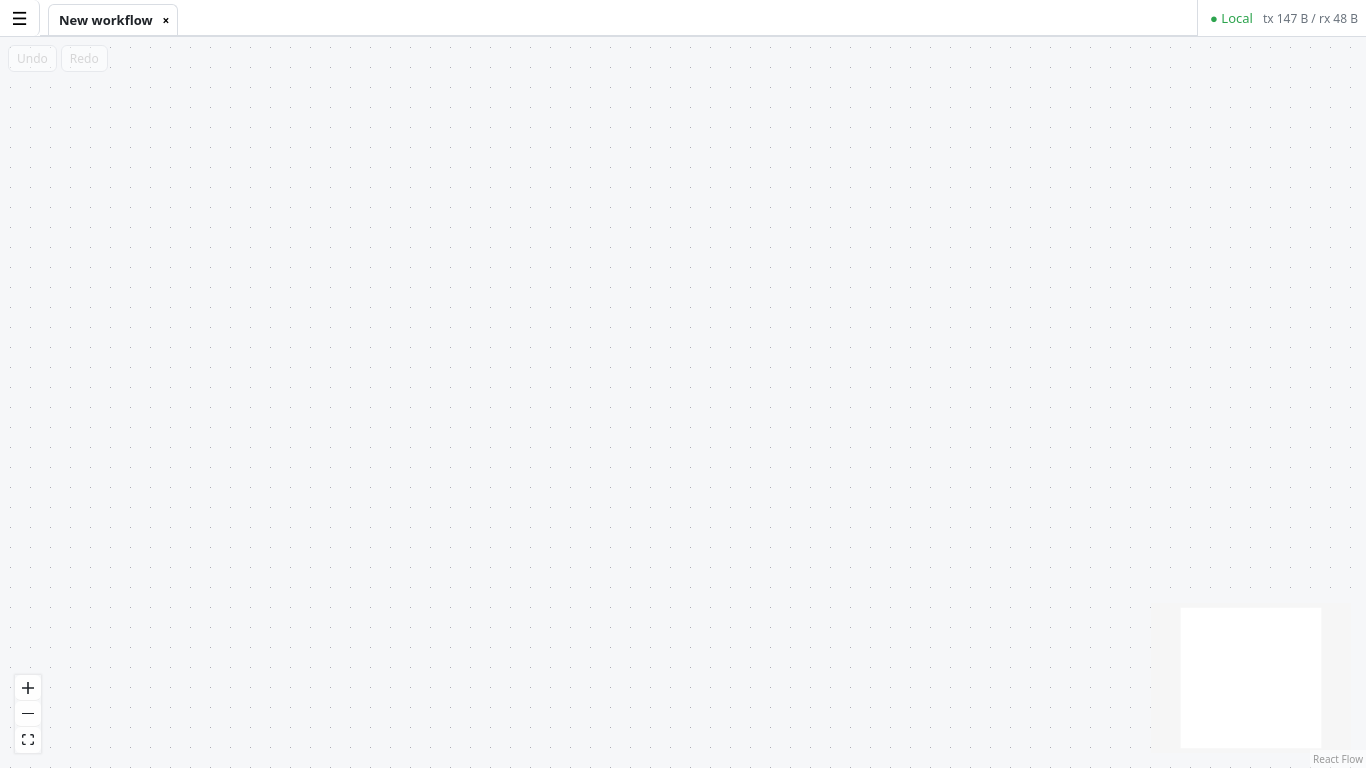
Test case: список workflow и вкладки › закрытие вкладки не удаляет workflow; открытие возвращает вкладку
This screenshot has width=1366, height=768.
Step 1. Click the button named "Menu" → click(20, 18), box [0,0,40,36]
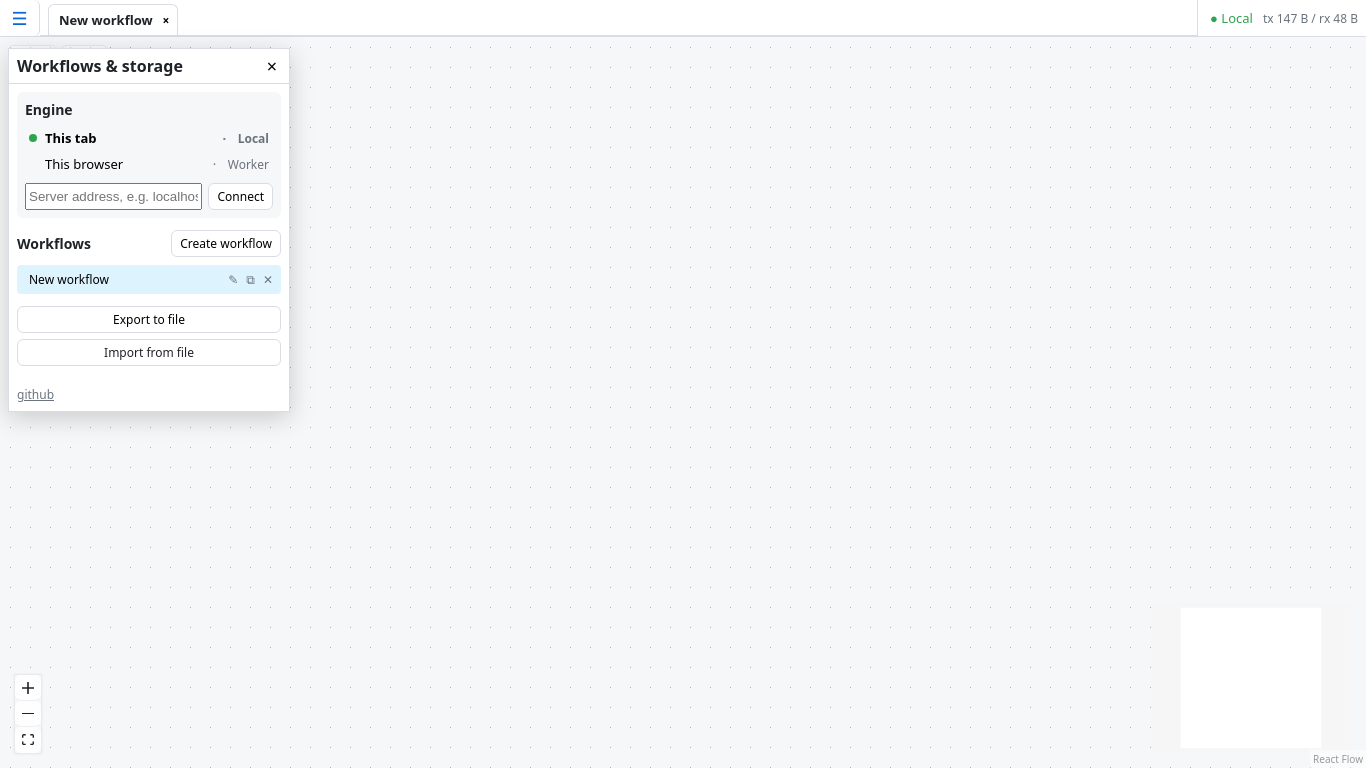
Step 2. Click the button named "Close tab “New workflow”" → click(170, 20), box [163,12,178,28]
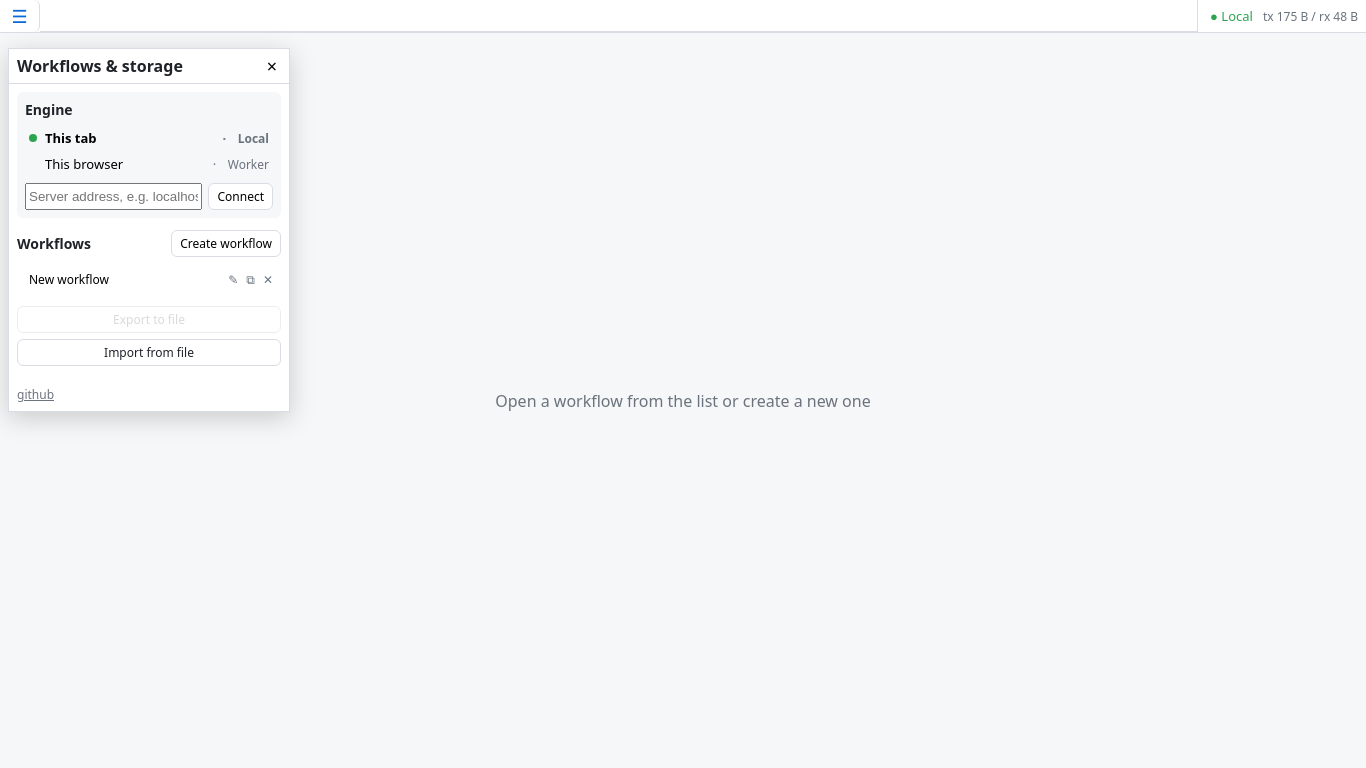
Now no tabs are shown
Now the text "Open a workflow from the list or create a new one" is shown, box [495,390,871,412]
Step 3. Click the button with aria-label "Open “New workflow”" → click(121, 280), box [21,267,220,292]
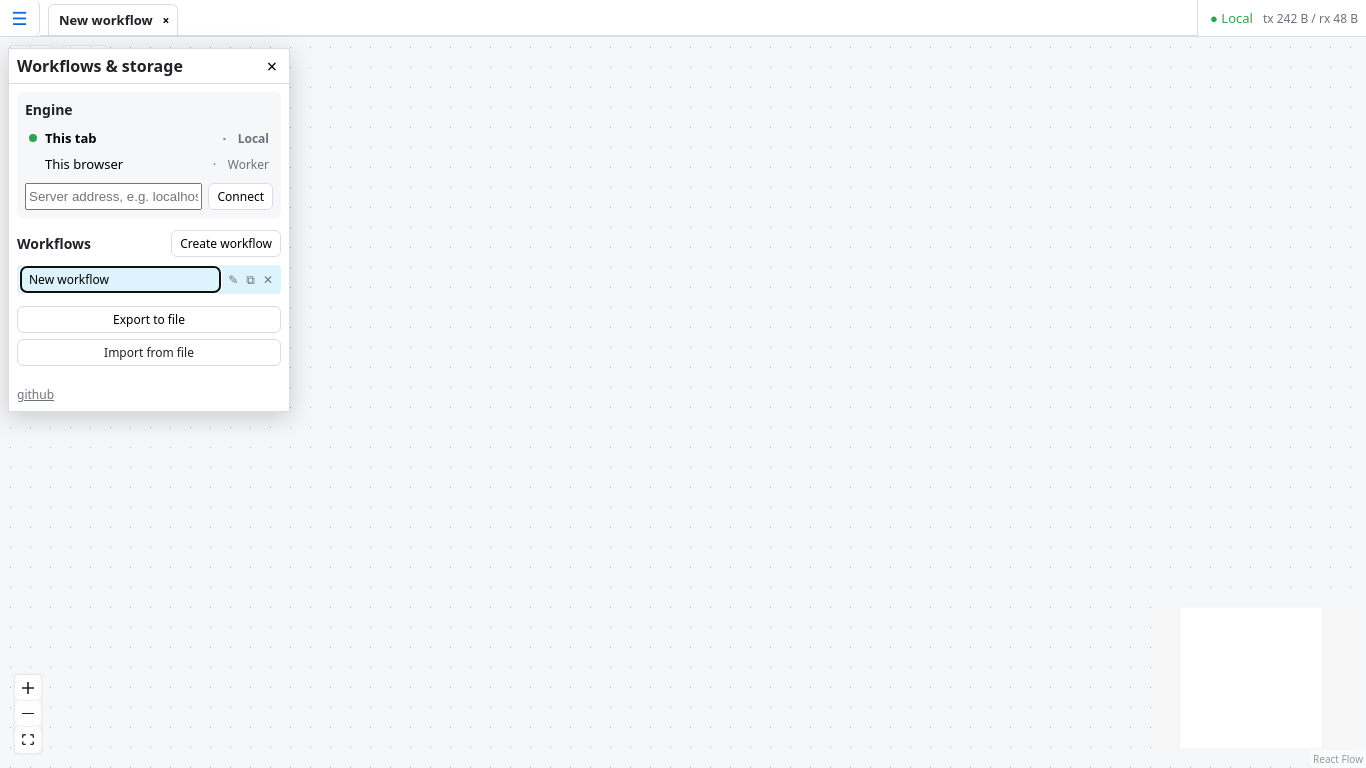
Now the number of tabs is 1, box [59,11,153,29]
